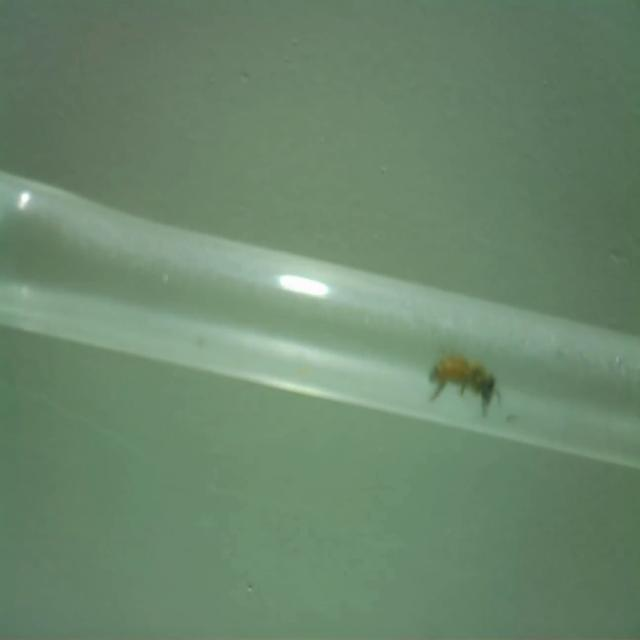Honeybee-Detection: (429, 349, 501, 415)
